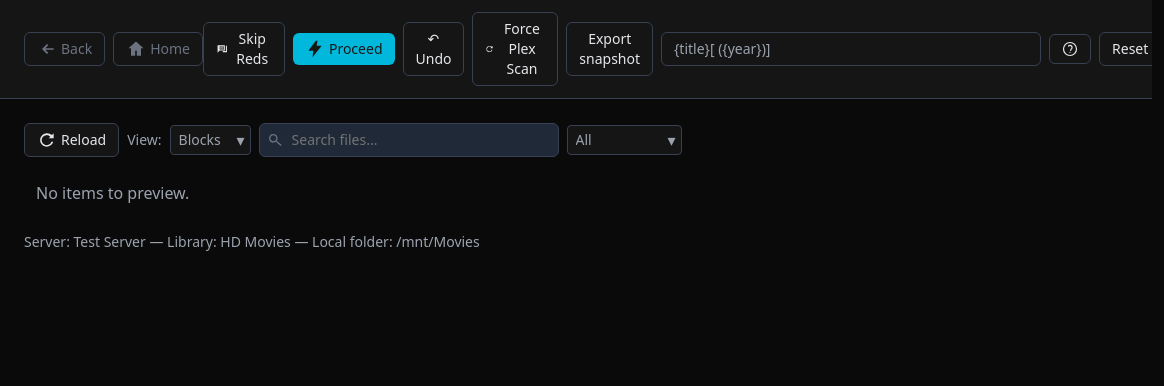
Scenario: Preview movie search pagination regressions › attaches subtitle operations to remote movie search results
Type "carry" into the field with placeholder "Search files..." at (408, 140), box [258, 123, 558, 157]
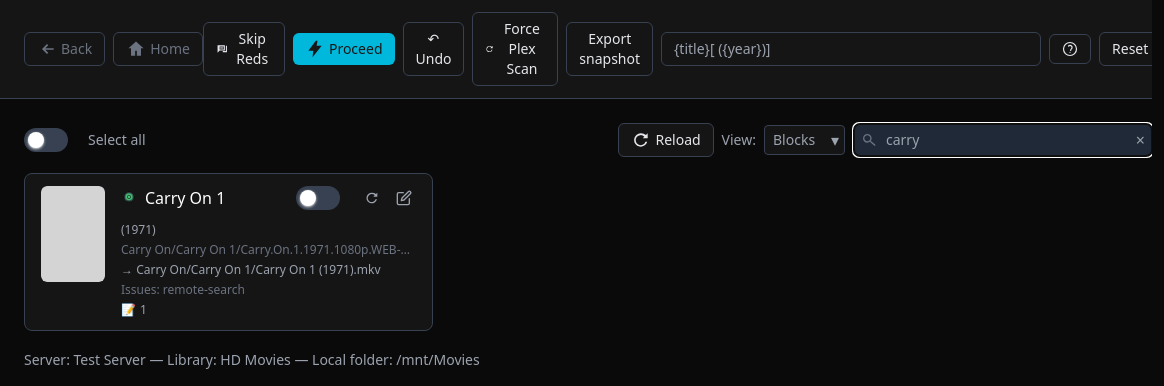
Check: the element titled "1 subtitle operation" is shown, box [121, 301, 147, 318]
